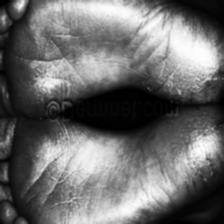Non-Cancerous Skin Condition: (0, 111, 224, 224), (1, 0, 224, 106)
